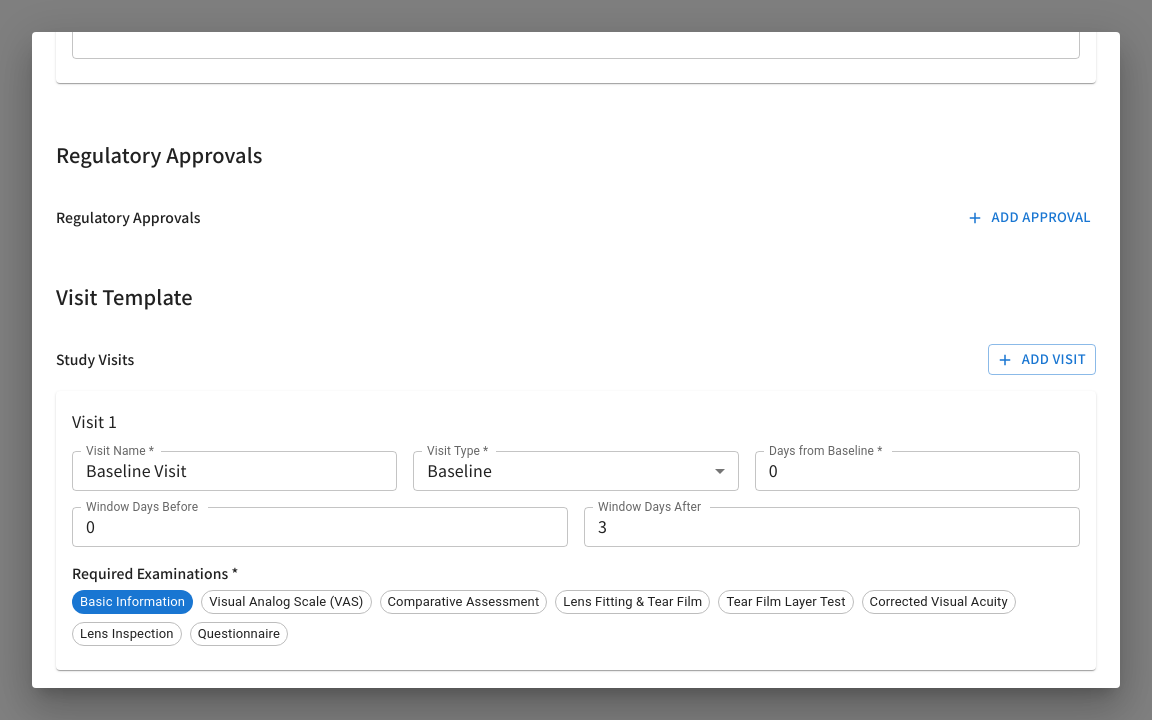
it: ClinicalStudyEditForm › adds and removes visit templates
(page scrolled)
Check: the number of headings "Visit 1" is 1, box [72,407,117,435]
// Add visit
What coordinates should you click on to do the following:
click the button "Add Visit"
I would click on:
 (1042, 360)
Its box is [988,344,1096,375].
(page scrolled)
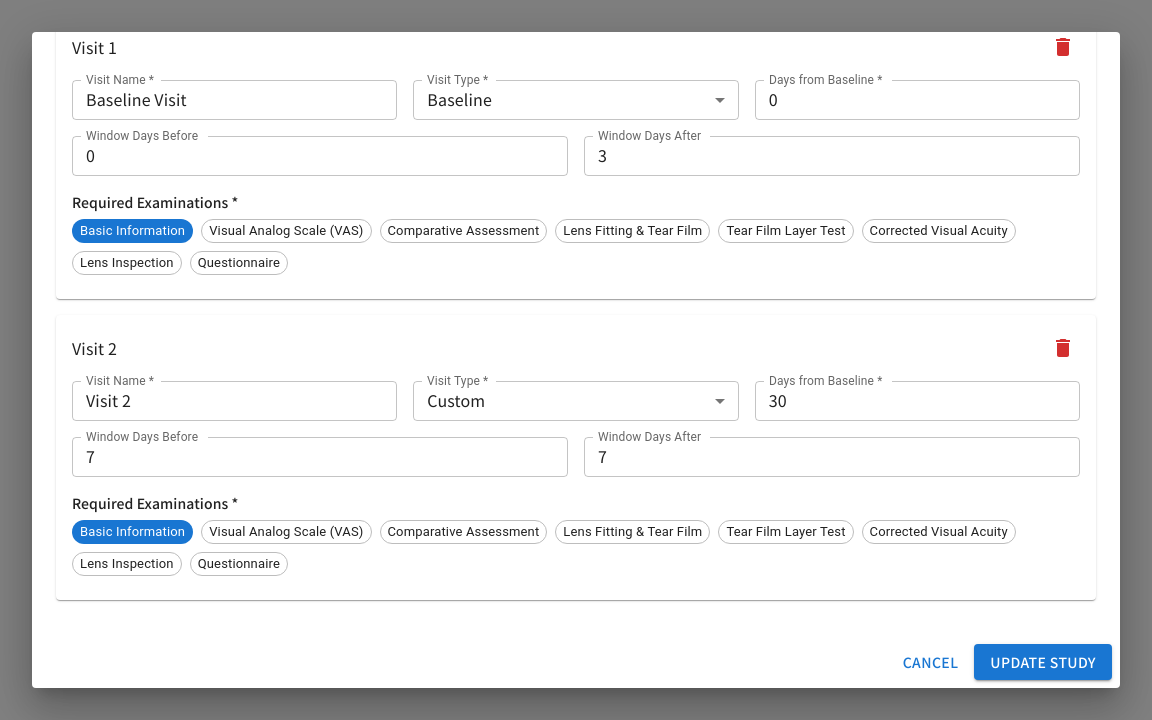
Check: the number of headings "Visit 1" is 2, box [72,33,117,61]; [72,334,117,362]
Check: the field showing "Visit 2" in the row of "Custom" is shown, box [72,381,397,421]
